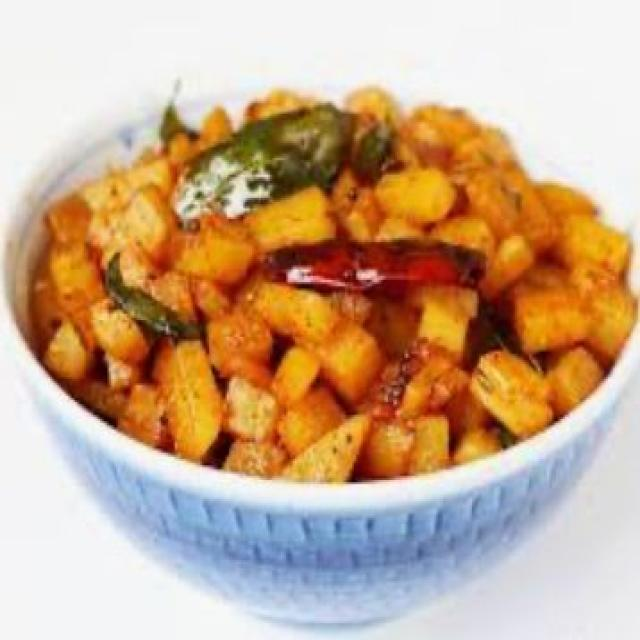VEGGIES: (27, 84, 638, 481)
